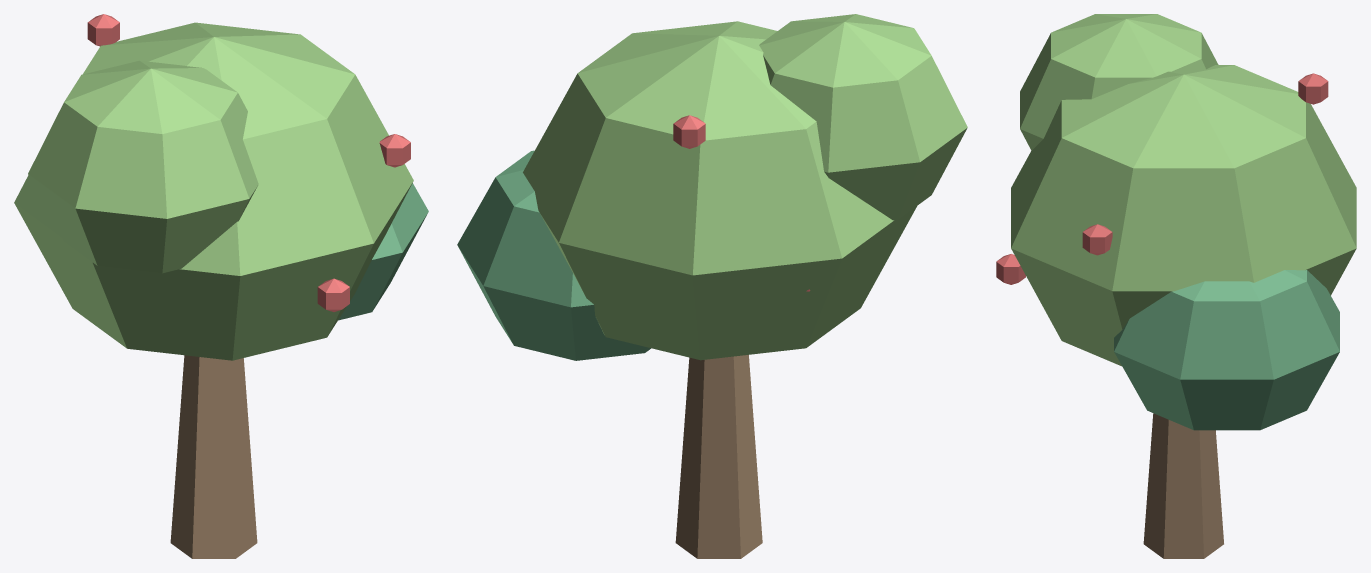
Rendered from tree_round.glb.
3 renders of one model, left to right at view 1: azimuth 30°, elevation 25°; view 2: azimuth 150°, elevation 25°; view 3: azimuth 270°, elevation 25°, orthographic. The views are drawn at different scales.
Visible parts, largest first — view 1: Player; view 2: Player; view 3: Player.
Part boxes in pixels (x1,y1,x2,y2): Player: (14,14,428,558); Player: (457,14,967,558); Player: (996,14,1356,558).
Bounding box in the file's own units: 3.02 × 3.7 × 2.5.
